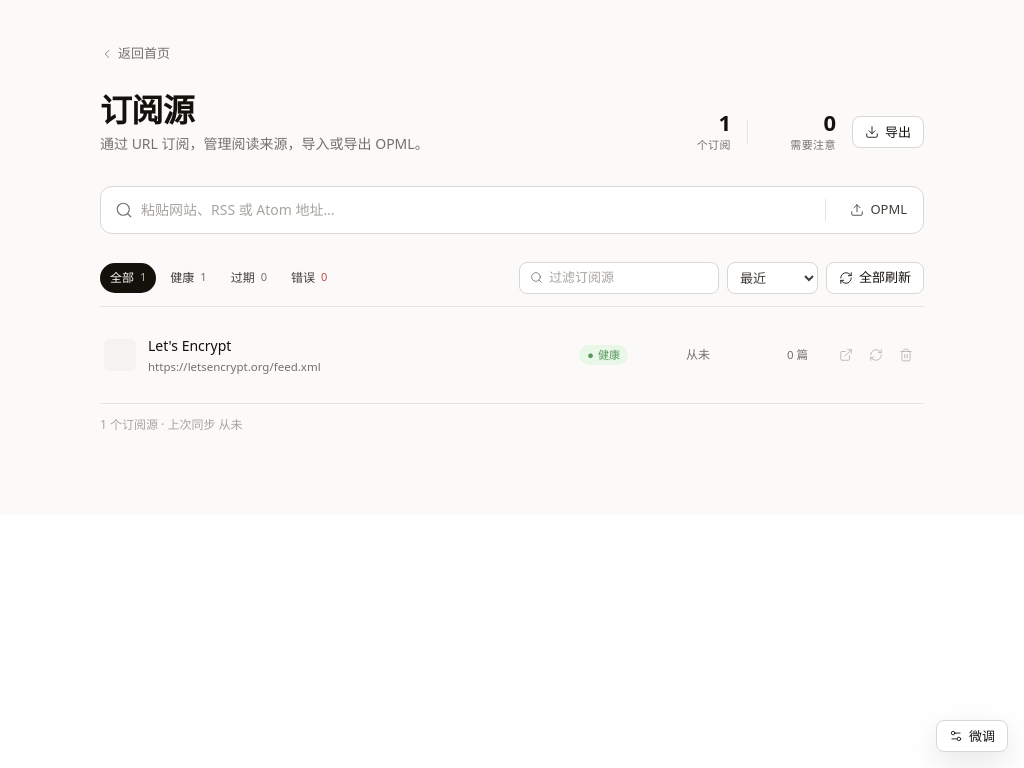
Test: SourcesPage requires inline confirmation before deleting a source
Expected: the text "Let's Encrypt" is shown, 148,336 -> 231,355
Click the button named "取消订阅" at (906, 355), box 892,341 -> 920,369
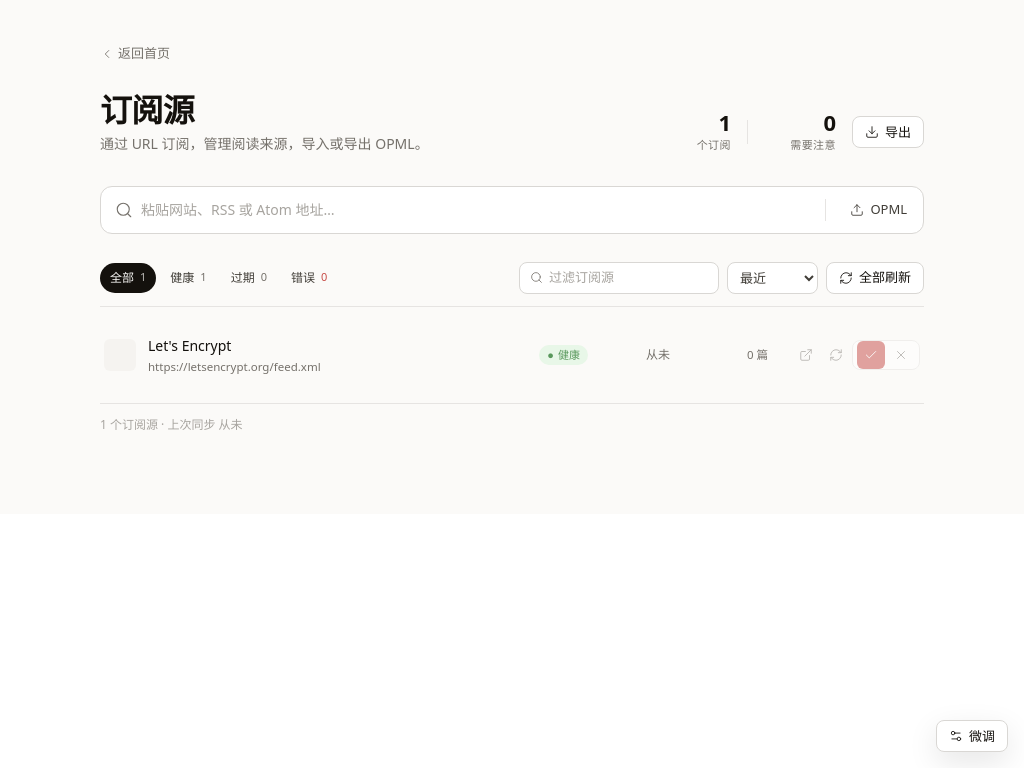
Click the button named "确认删除" at (871, 355), box 857,341 -> 885,369
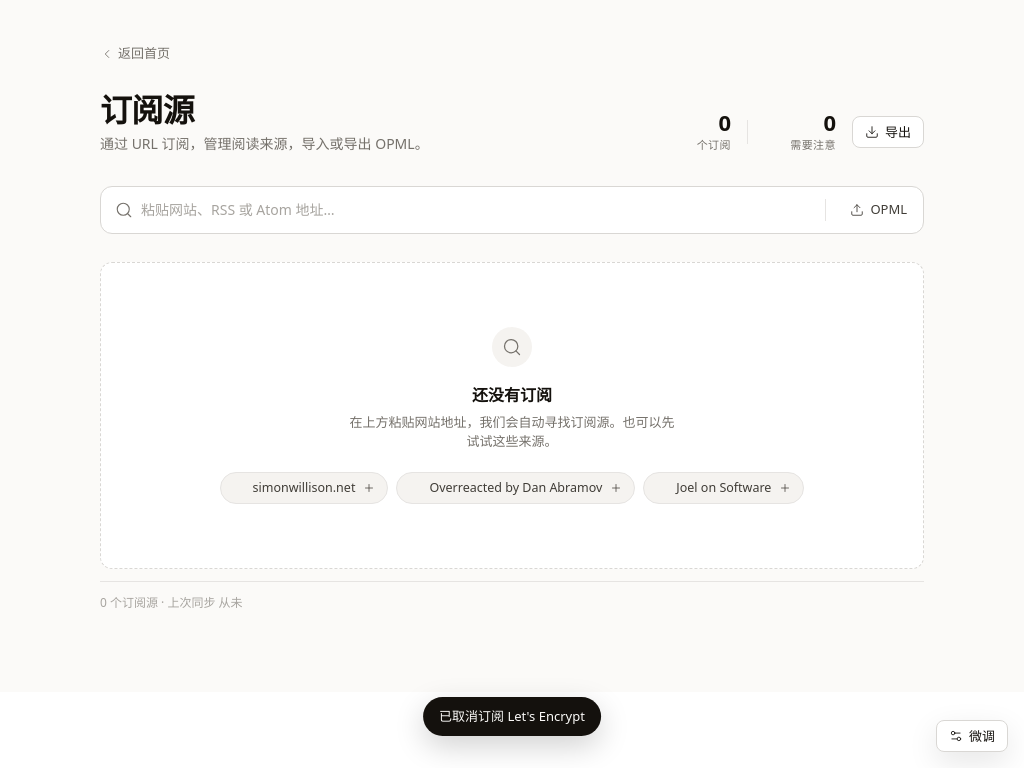
Result: the text "已取消订阅 Let's Encrypt" is shown at 423,696 -> 601,736
